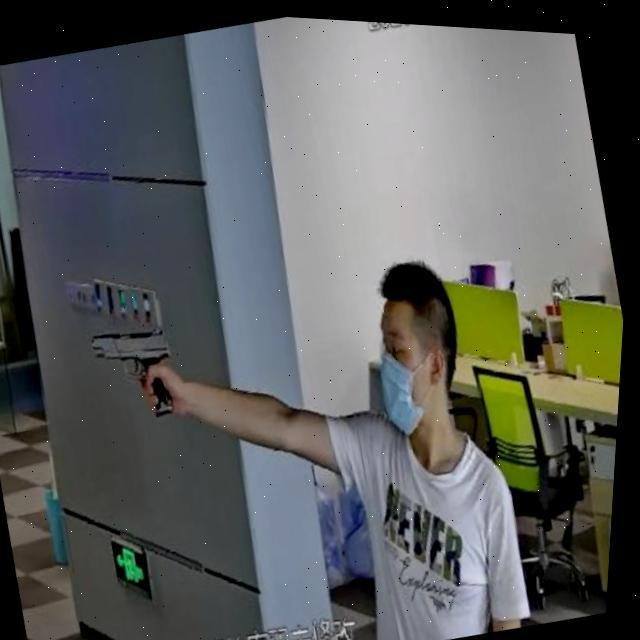gun: (75, 298, 213, 471)
